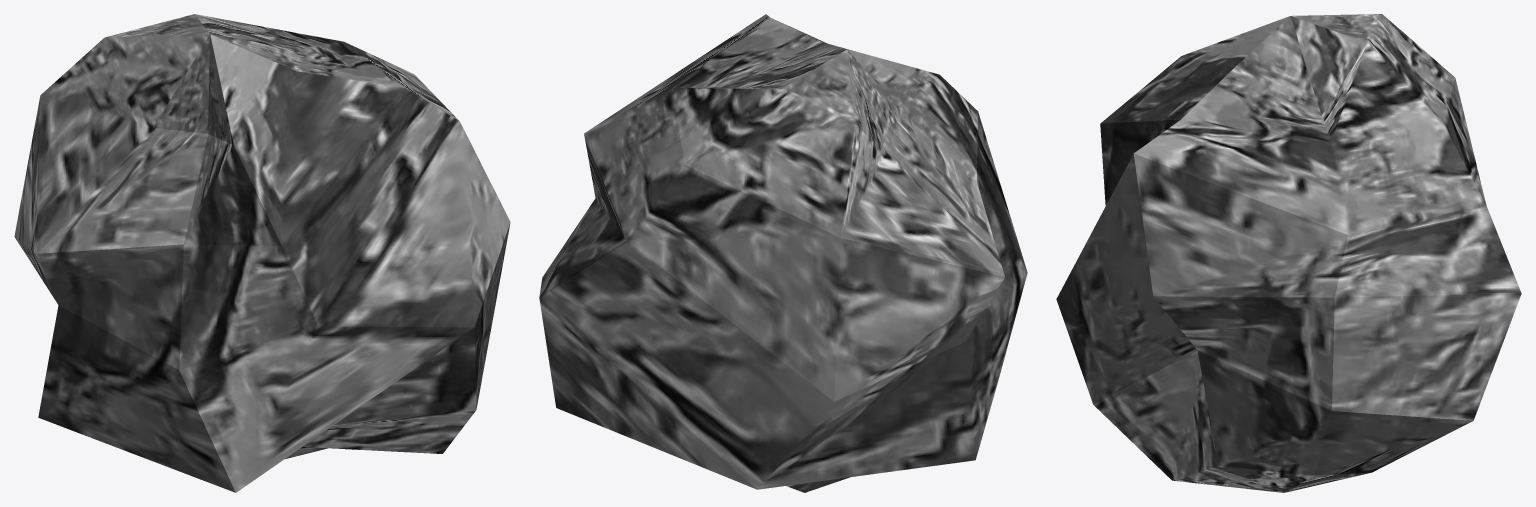
Rendered from boulder_2.fbx.
The picture shows the model from 3 angles, left to right: view 1: azimuth 30°, elevation 25°; view 2: azimuth 150°, elevation 25°; view 3: azimuth 270°, elevation 25°; orthographic projection. The views are drawn at different scales.
Visible parts, largest first — view 1: boulder1; view 2: boulder1; view 3: boulder1.
Part boxes in pixels (left/top/right/bottom): boulder1: left=14, top=14, right=510, bottom=492; boulder1: left=539, top=14, right=1027, bottom=492; boulder1: left=1056, top=14, right=1521, bottom=492.
Size of the model in its own units: 211 by 201 by 201.
Materials: 1 (1 with a texture image).
